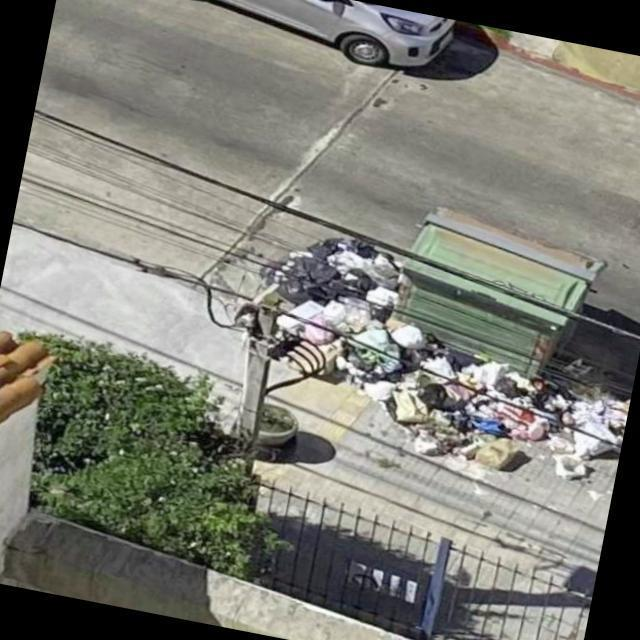garbage: (340, 314, 637, 506), (220, 210, 427, 402)
